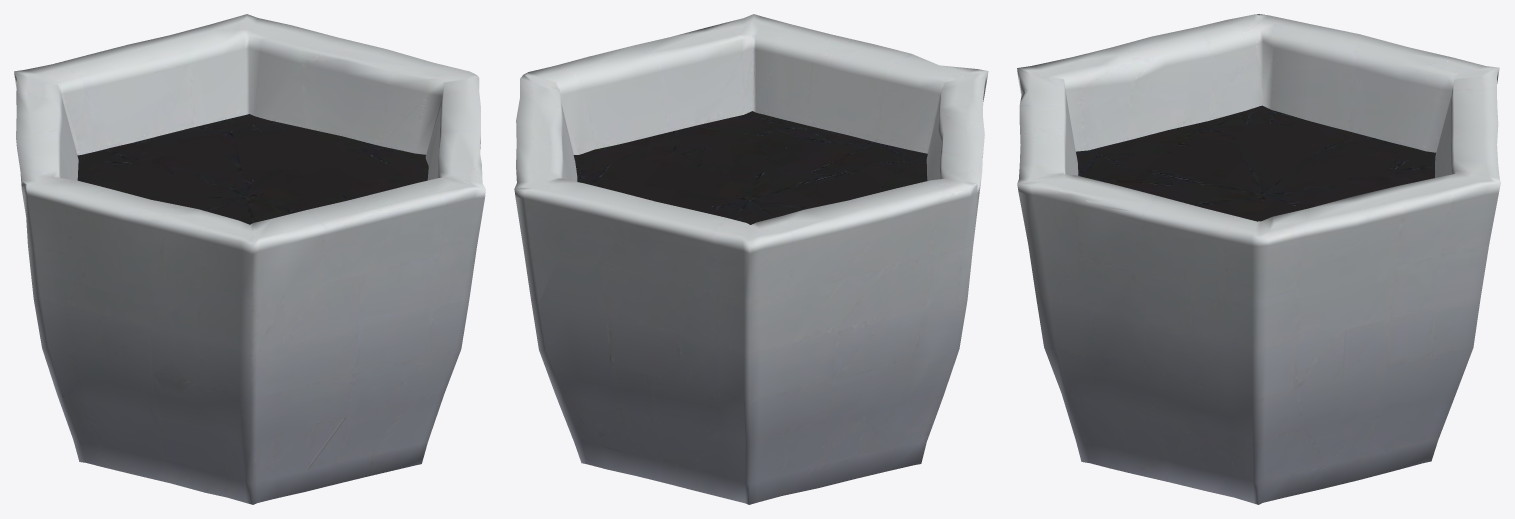
Rendered from cup-stack.glb.
3 views of the same model, side by side, from view 1: azimuth 30°, elevation 25°; view 2: azimuth 150°, elevation 25°; view 3: azimuth 270°, elevation 25° (orthographic).
Parts seen in each view (by area): view 1: geometry_0; view 2: geometry_0; view 3: geometry_0.
Part boxes in pixels (x1,y1,x2,y2): geometry_0: (14,14,485,504); geometry_0: (514,14,988,504); geometry_0: (1017,14,1500,504).
Bounding box in the file's own units: 1 × 0.6177 × 0.9145.
1 material, 1 textured.
